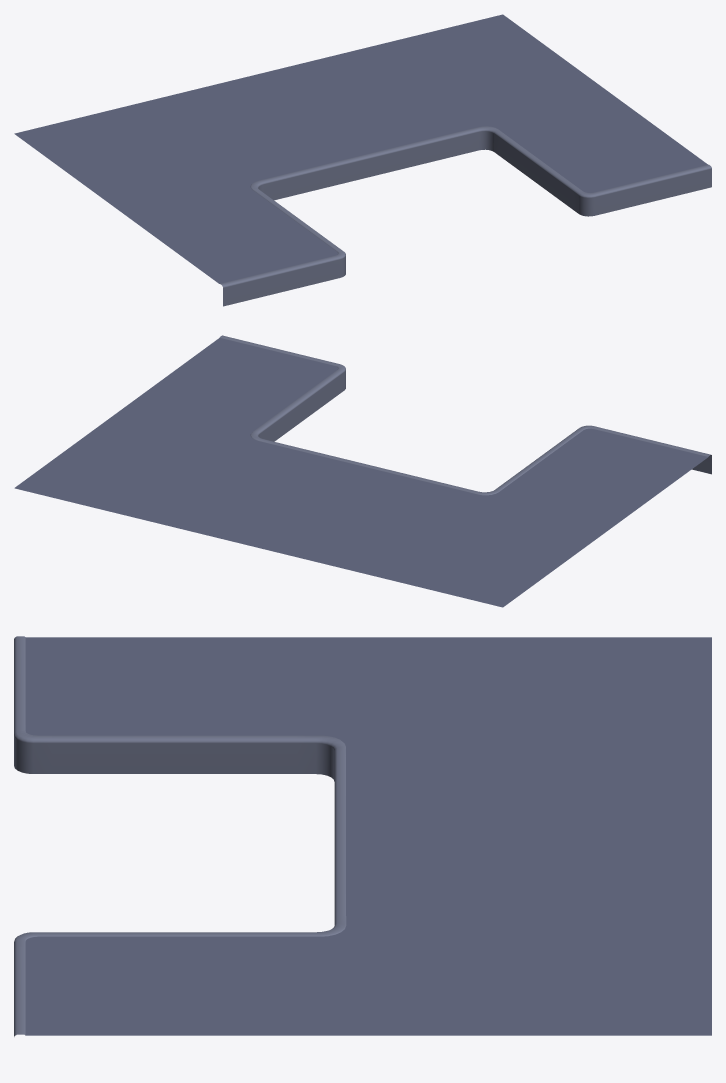
The model's file is Modules.fbx.
The picture shows the model from 3 angles, top to bottom: view 1: azimuth 30°, elevation 25°; view 2: azimuth 150°, elevation 25°; view 3: azimuth 270°, elevation 25°; orthographic projection. The views are drawn at different scales.
Parts seen in each view (by area): view 1: Middle__2_, Middle, Middle__1_, Straight__2_, Straight__1_, Straight__4_, Straight__3_, Straight, InnerConner__1_, InnerConner, OuterConner__1_, OuterConner; view 2: Middle__2_, Middle, Middle__1_, Straight__3_, Straight__2_, Straight__1_, Straight, Straight__4_, InnerConner__1_, InnerConner; view 3: Middle__2_, Middle, Middle__1_, Straight, Straight__2_, Straight__3_, Straight__1_, Straight__4_, InnerConner, InnerConner__1_, OuterConner.
Boxes of the visible parts, left/top/right/bottom form: Middle__2_: left=14, top=14, right=604, bottom=207; Middle: left=497, top=89, right=699, bottom=185; Middle__1_: left=116, top=182, right=318, bottom=278; Straight__2_: left=263, top=124, right=469, bottom=200; Straight__1_: left=212, top=252, right=330, bottom=306; Straight__4_: left=593, top=159, right=711, bottom=213; Straight__3_: left=500, top=131, right=592, bottom=209; Straight: left=246, top=193, right=337, bottom=251; InnerConner__1_: left=458, top=115, right=519, bottom=155; InnerConner: left=223, top=172, right=273, bottom=199; OuterConner__1_: left=573, top=185, right=604, bottom=216; OuterConner: left=319, top=247, right=345, bottom=279; Middle__2_: left=14, top=414, right=604, bottom=607; Middle: left=116, top=343, right=318, bottom=439; Middle__1_: left=497, top=436, right=699, bottom=532; Straight__3_: left=246, top=370, right=338, bottom=441; Straight__2_: left=263, top=441, right=467, bottom=497; Straight__1_: left=593, top=428, right=711, bottom=474; Straight: left=501, top=432, right=592, bottom=490; Straight__4_: left=212, top=335, right=328, bottom=369; InnerConner__1_: left=223, top=423, right=272, bottom=449; InnerConner: left=458, top=485, right=519, bottom=506; Middle__2_: left=372, top=637, right=711, bottom=1035; Middle: left=52, top=948, right=372, bottom=1035; Middle__1_: left=52, top=637, right=372, bottom=724; Straight: left=52, top=725, right=297, bottom=773; Straight__2_: left=334, top=755, right=372, bottom=916; Straight__3_: left=52, top=932, right=297, bottom=947; Straight__1_: left=14, top=636, right=51, bottom=726; Straight__4_: left=14, top=947, right=51, bottom=1036; InnerConner: left=297, top=725, right=372, bottom=781; InnerConner__1_: left=297, top=915, right=372, bottom=947; OuterConner: left=14, top=724, right=51, bottom=773.
Size of the model in its own units: 7500 by 300 by 5553.
